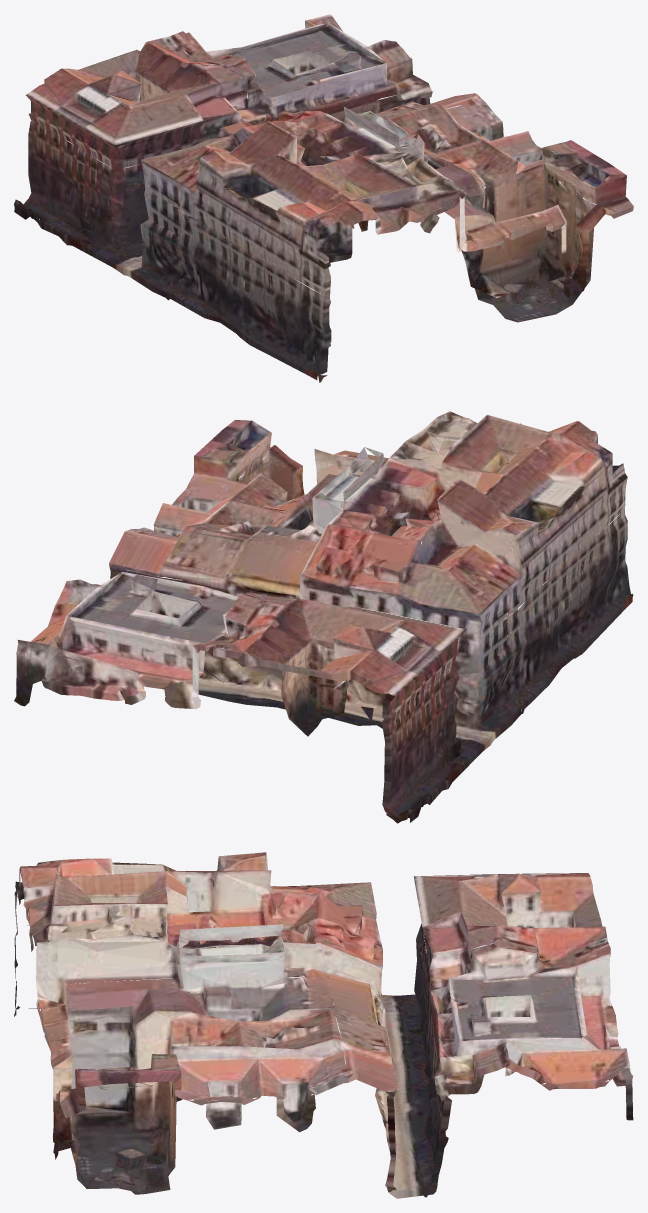
3 renders of one model, top to bottom at view 1: azimuth 30°, elevation 25°; view 2: azimuth 150°, elevation 25°; view 3: azimuth 270°, elevation 25°, orthographic. The views are drawn at different scales.
Parts seen in each view (by area): view 1: Mesh_0; view 2: Mesh_0; view 3: Mesh_0.
Boxes of the visible parts, left/top/right/bottom form: Mesh_0: left=14, top=14, right=633, bottom=382; Mesh_0: left=14, top=411, right=633, bottom=823; Mesh_0: left=14, top=852, right=633, bottom=1198.
Size of the model in its own units: 66.56 by 29.83 by 82.62.
Materials: 2 (2 with a texture image).
